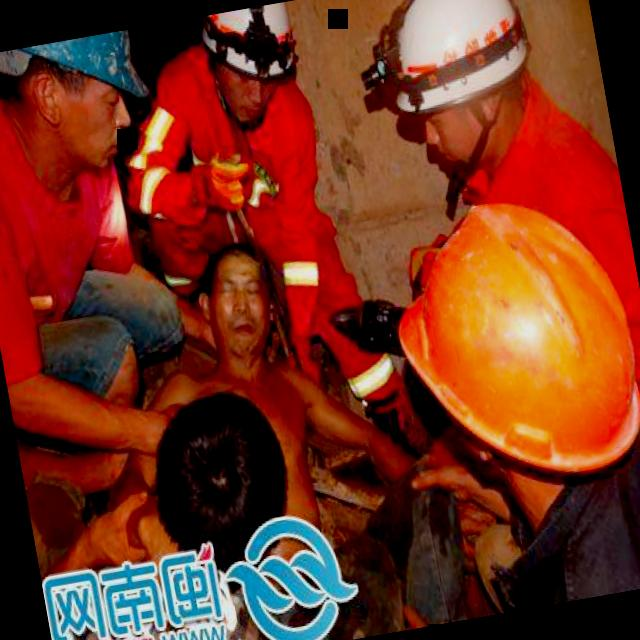Fall-Detected: (68, 195, 427, 640)
